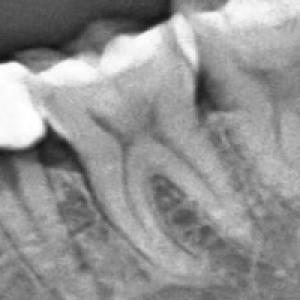tooth: (34, 18, 260, 279)
